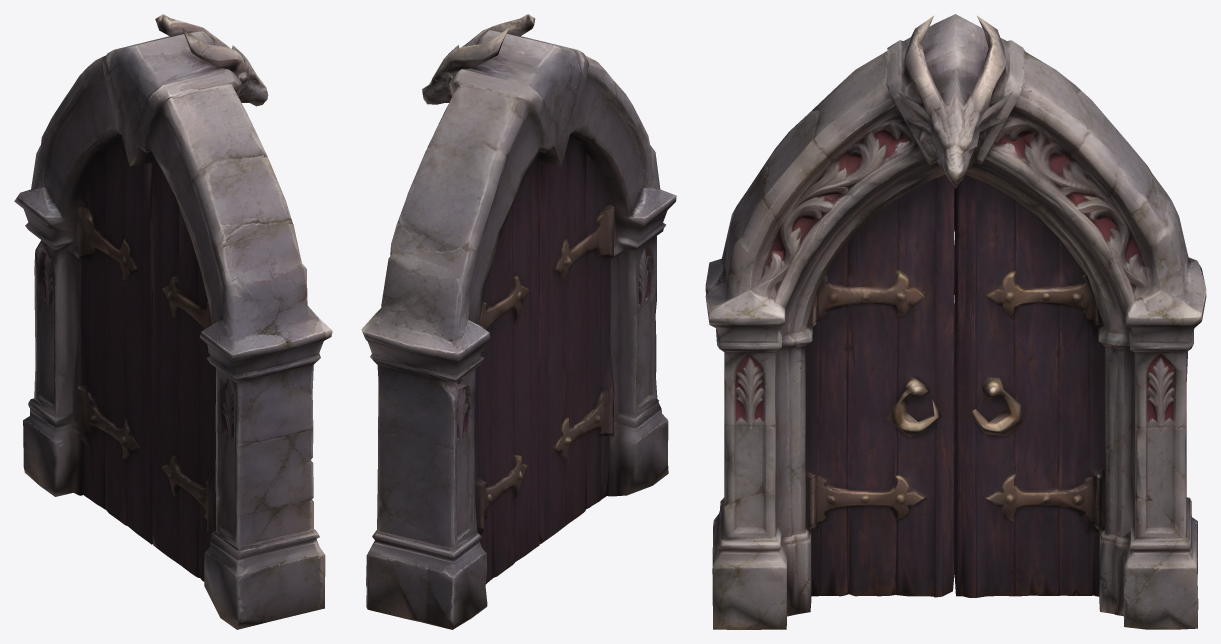
Rendered from castle_door_source.glb.
3 views of the same model, side by side, from view 1: azimuth 30°, elevation 25°; view 2: azimuth 150°, elevation 25°; view 3: azimuth 270°, elevation 25° (orthographic). The views are drawn at different scales.
Parts seen in each view (by area): view 1: tripo_node_13406bb3-0039-43a6-8191-38a01a0c8476; view 2: tripo_node_13406bb3-0039-43a6-8191-38a01a0c8476; view 3: tripo_node_13406bb3-0039-43a6-8191-38a01a0c8476.
Part boxes in pixels (x1,y1,x2,y2): tripo_node_13406bb3-0039-43a6-8191-38a01a0c8476: (14,14,332,629); tripo_node_13406bb3-0039-43a6-8191-38a01a0c8476: (361,14,676,629); tripo_node_13406bb3-0039-43a6-8191-38a01a0c8476: (705,14,1206,629).
Bounding box in the file's own units: 0.284 × 0.9765 × 0.7522.
1 material, 1 textured.
